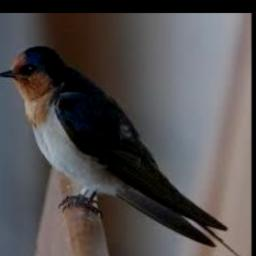Swallow: (0, 45, 247, 256)
